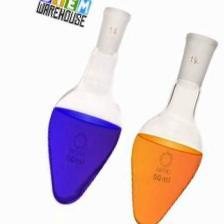Pear shaped flask: (130, 6, 217, 220), (39, 8, 120, 207)
